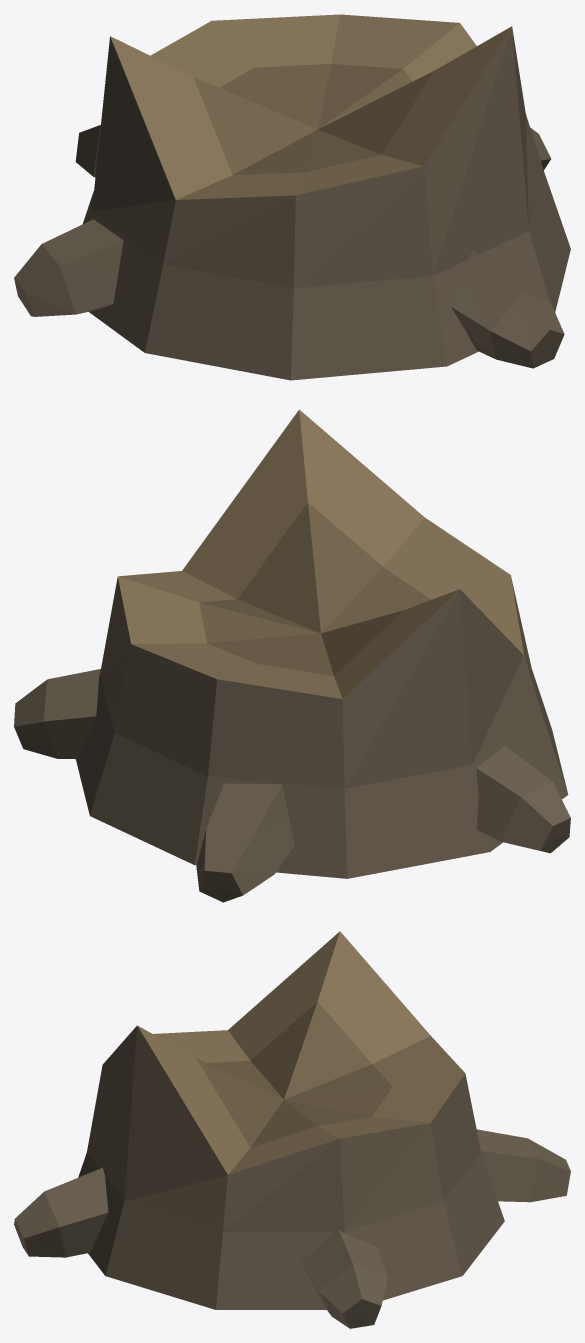
The model's file is stump_smashed_anima.obj.
The picture shows the model from 3 angles, top to bottom: view 1: azimuth 30°, elevation 25°; view 2: azimuth 150°, elevation 25°; view 3: azimuth 270°, elevation 25°; orthographic projection. The views are drawn at different scales.
Visible parts, largest first — view 1: stump_smashed_anima; view 2: stump_smashed_anima; view 3: stump_smashed_anima.
Boxes of the visible parts, left/top/right/bottom form: stump_smashed_anima: left=14, top=14, right=570, bottom=380; stump_smashed_anima: left=14, top=409, right=570, bottom=902; stump_smashed_anima: left=14, top=931, right=570, bottom=1328.
Bounding box in the file's own units: 0.6778 × 0.337 × 0.7061.
